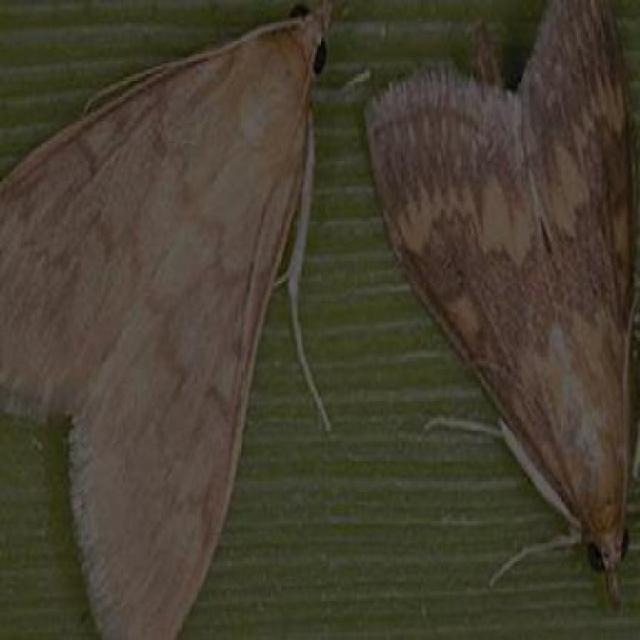stem-borer: (0, 0, 349, 640), (362, 0, 638, 614)
